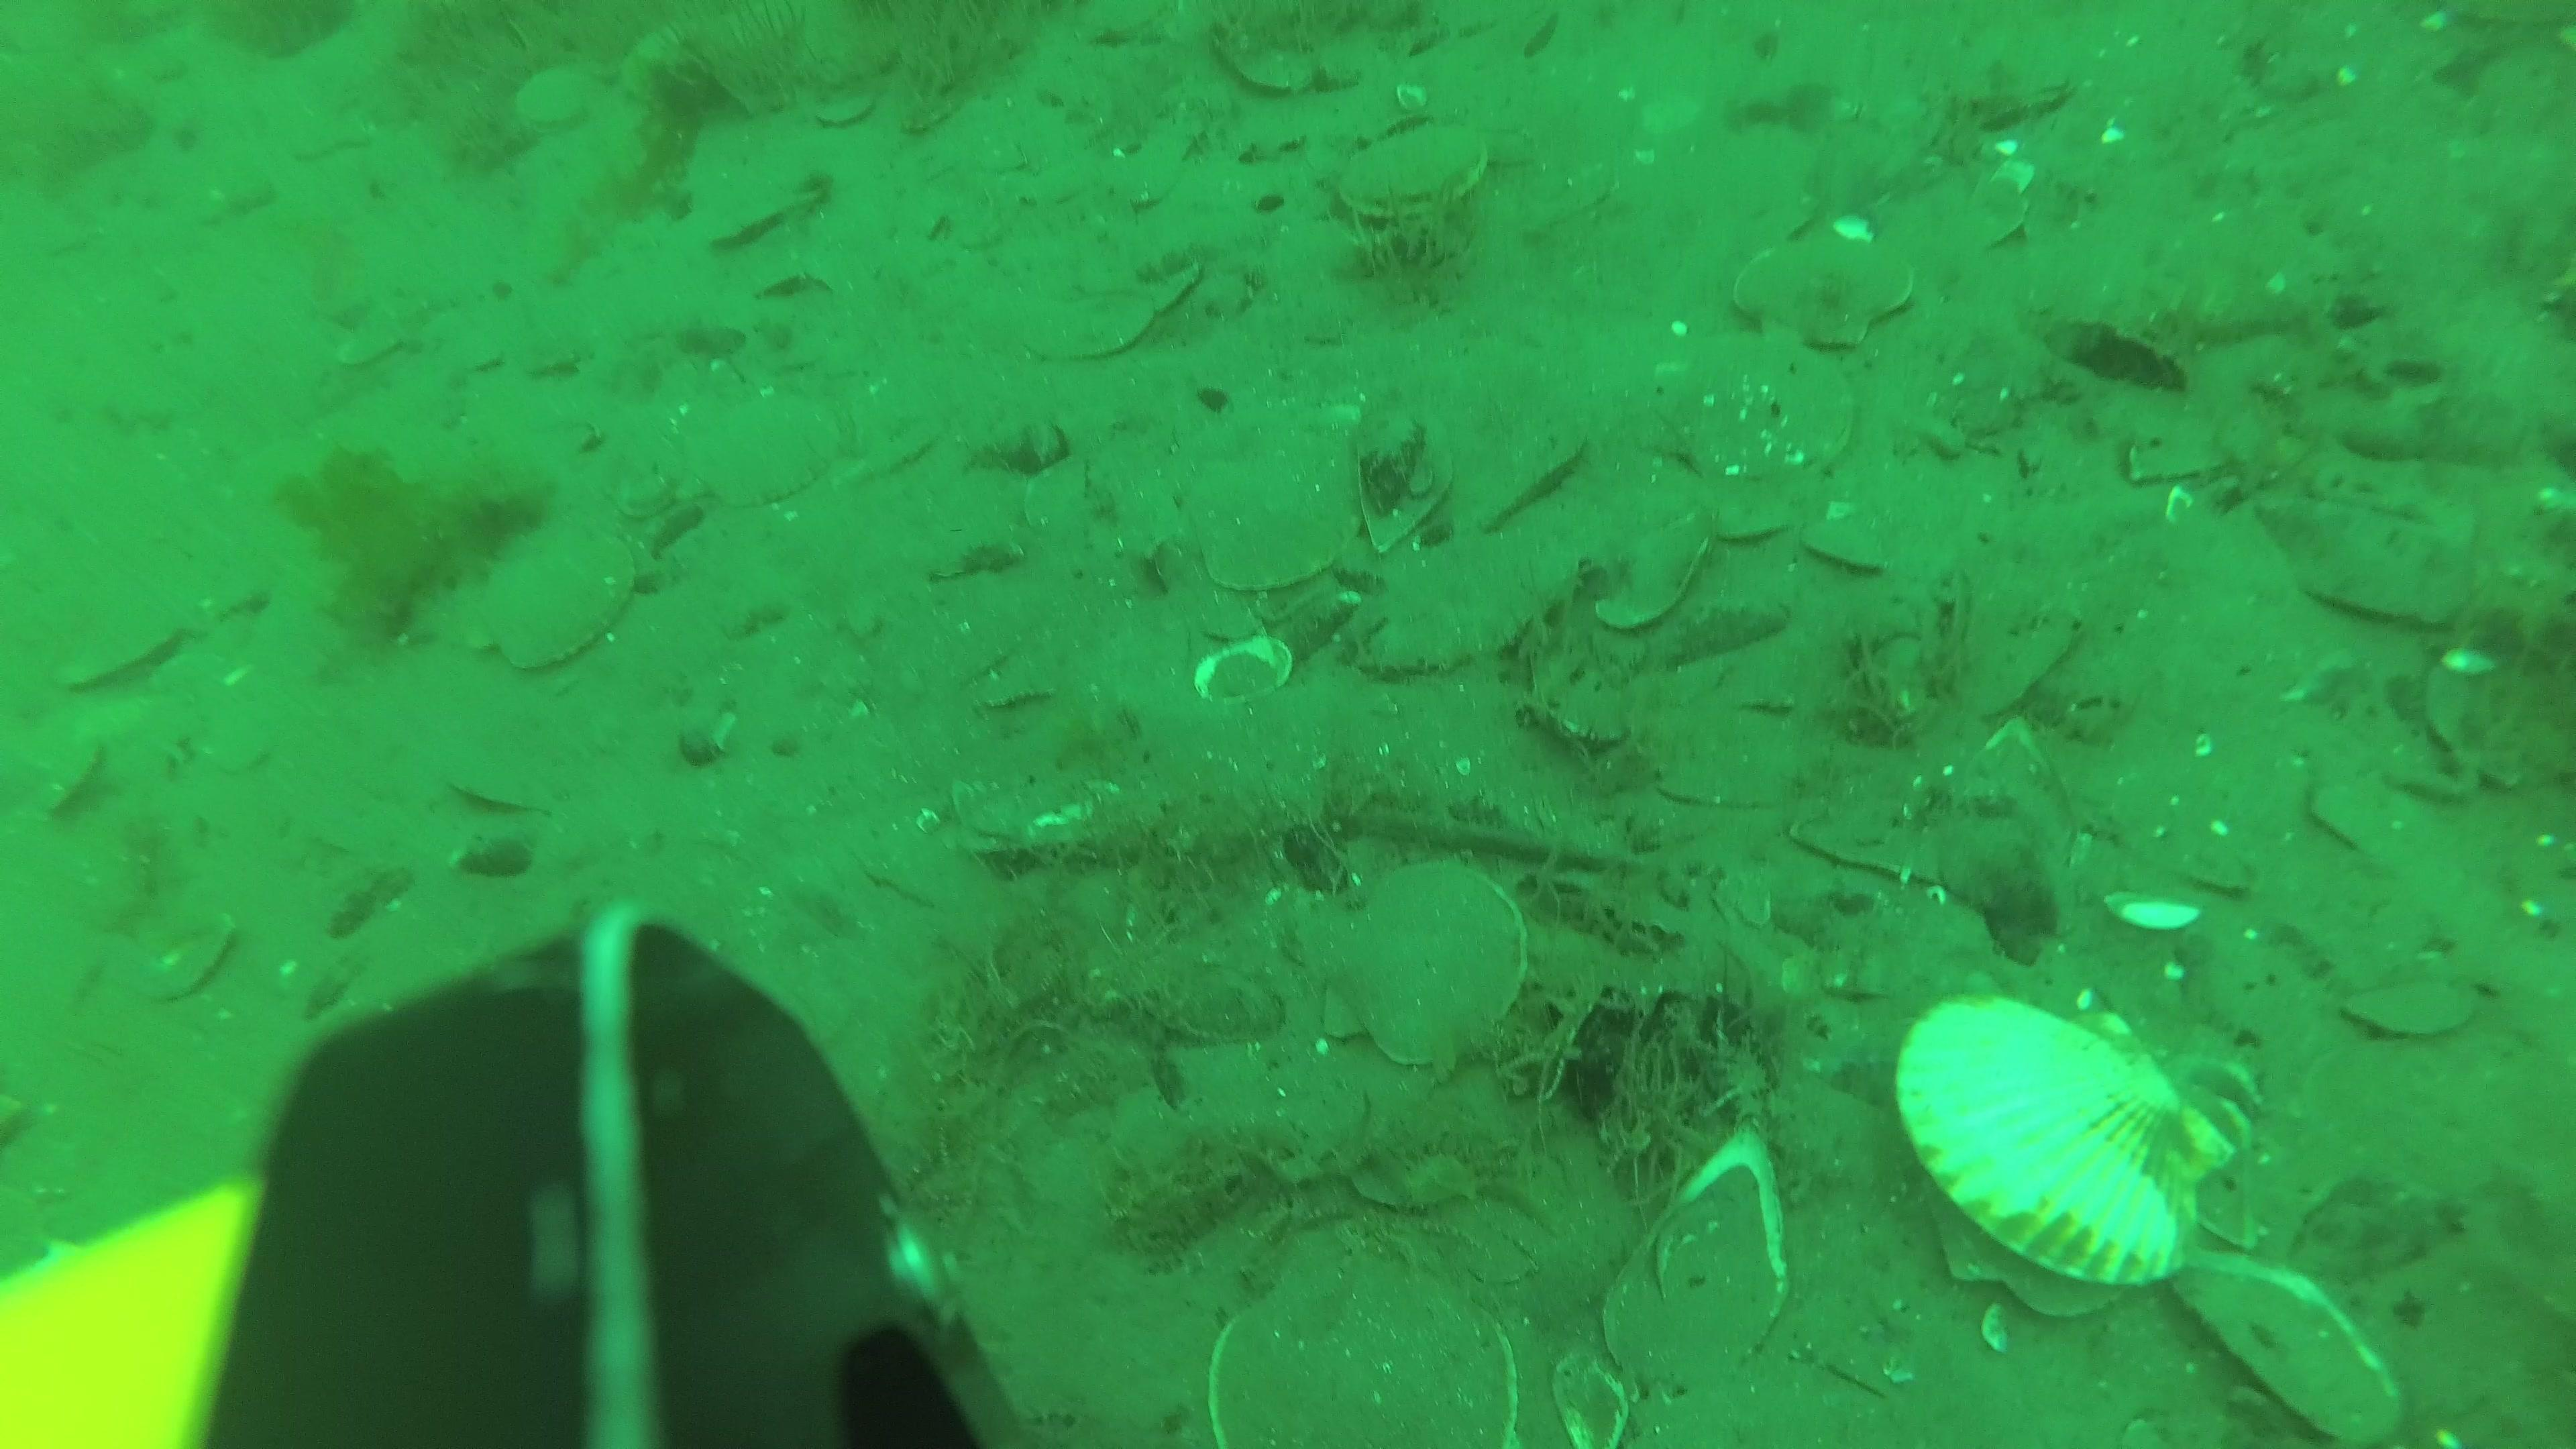scallop: (1895, 987, 2235, 1290), (1315, 855, 1529, 1077), (1668, 326, 1865, 487), (1184, 433, 1362, 600), (1426, 384, 1596, 538), (1555, 471, 1718, 625), (1741, 218, 1925, 343), (478, 536, 640, 665), (699, 403, 849, 522), (1339, 127, 1495, 228), (42, 609, 202, 695), (1803, 476, 1939, 571), (697, 165, 826, 260), (2342, 968, 2491, 1047), (511, 57, 616, 145)
